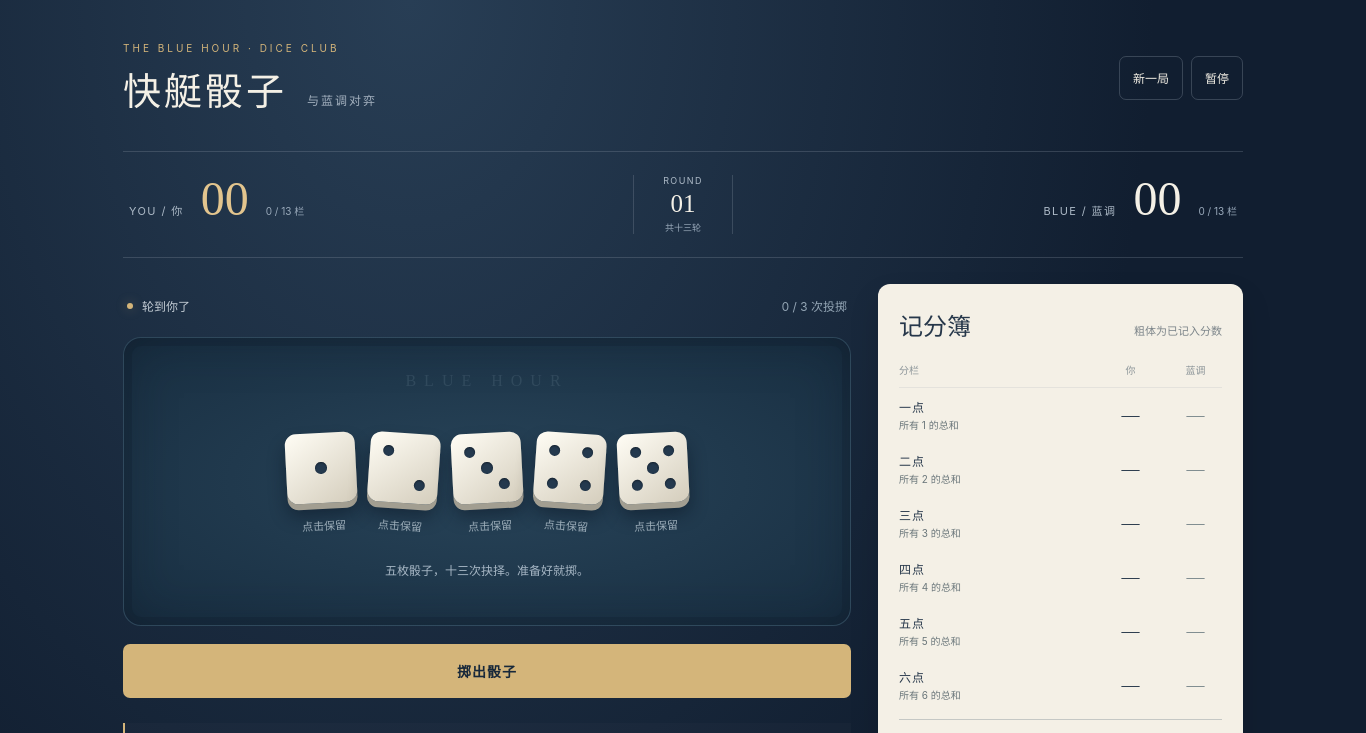
Test: interaction safety › blocked storage does not break play
Click the button "掷出骰子": x=487, y=671 x1=123 y1=644 x2=851 y2=698
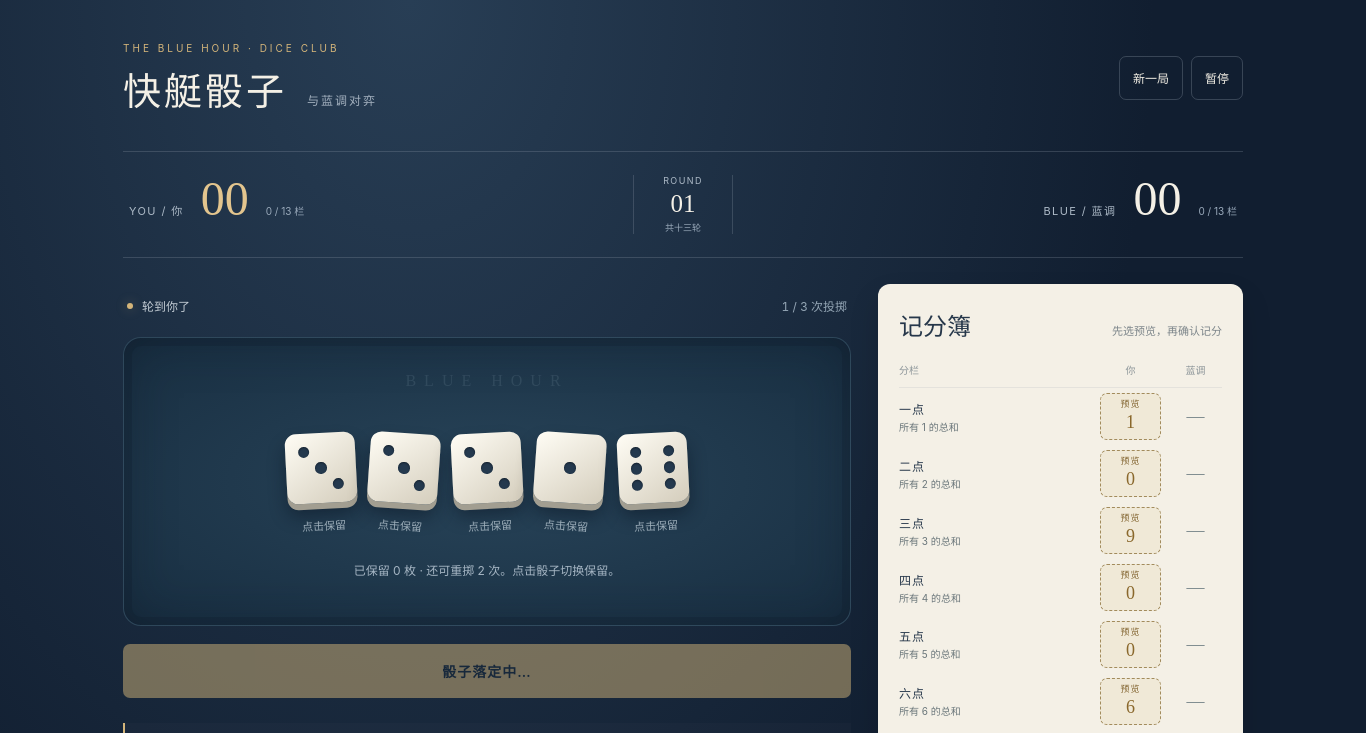
Check: the text "1 / 3 次投掷" is shown, box x1=781 y1=297 x2=847 y2=314
